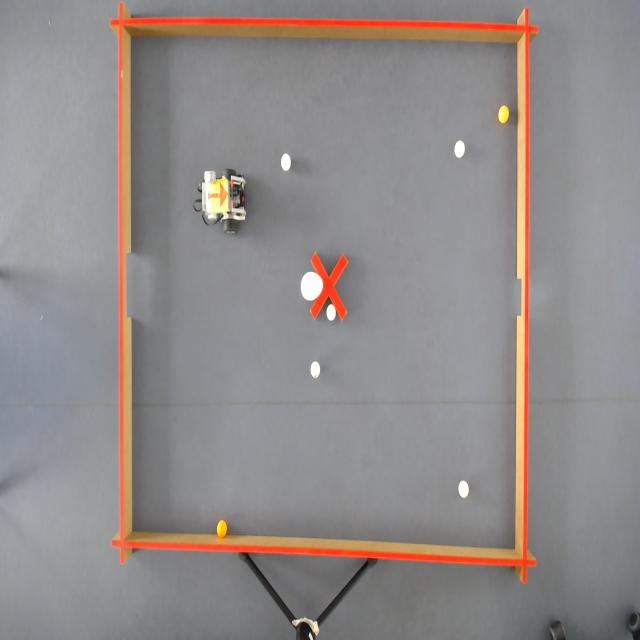cross: (308, 250, 348, 323)
egg: (299, 270, 324, 302)
orange_ball: (498, 103, 510, 126), (216, 516, 228, 539)
robot: (206, 180, 229, 213)
white_ball: (453, 139, 467, 160), (309, 359, 322, 381), (457, 478, 470, 500), (280, 150, 292, 173), (326, 301, 338, 323)
